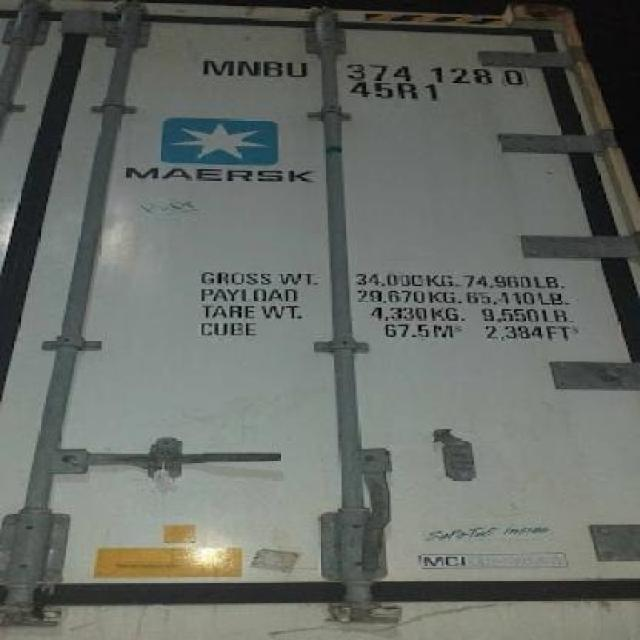ISO: (352, 81, 445, 102)
container_number: (203, 55, 529, 87)
